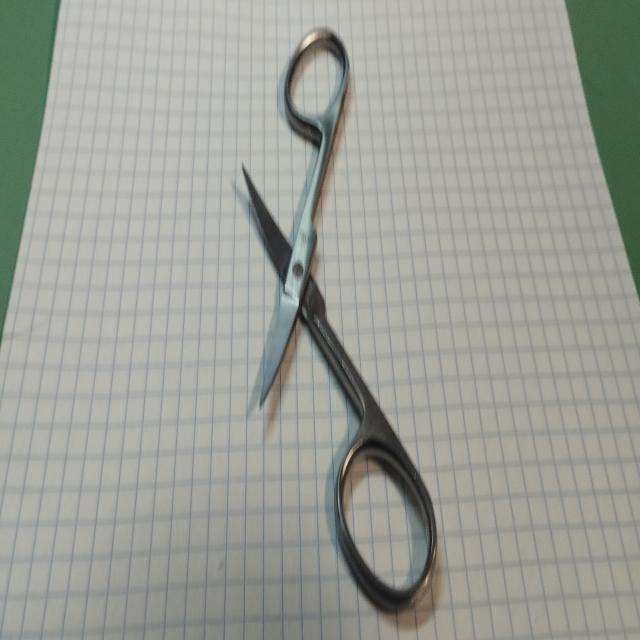tesoura: (238, 19, 441, 614)
